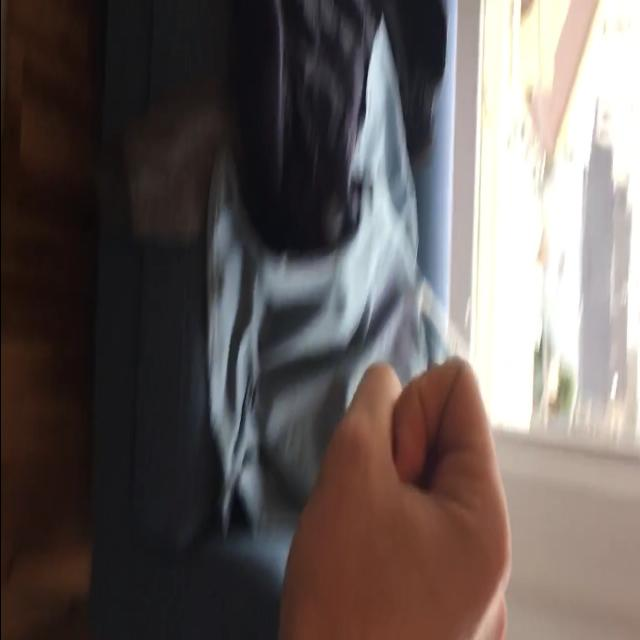Rock: (276, 343, 512, 640)
